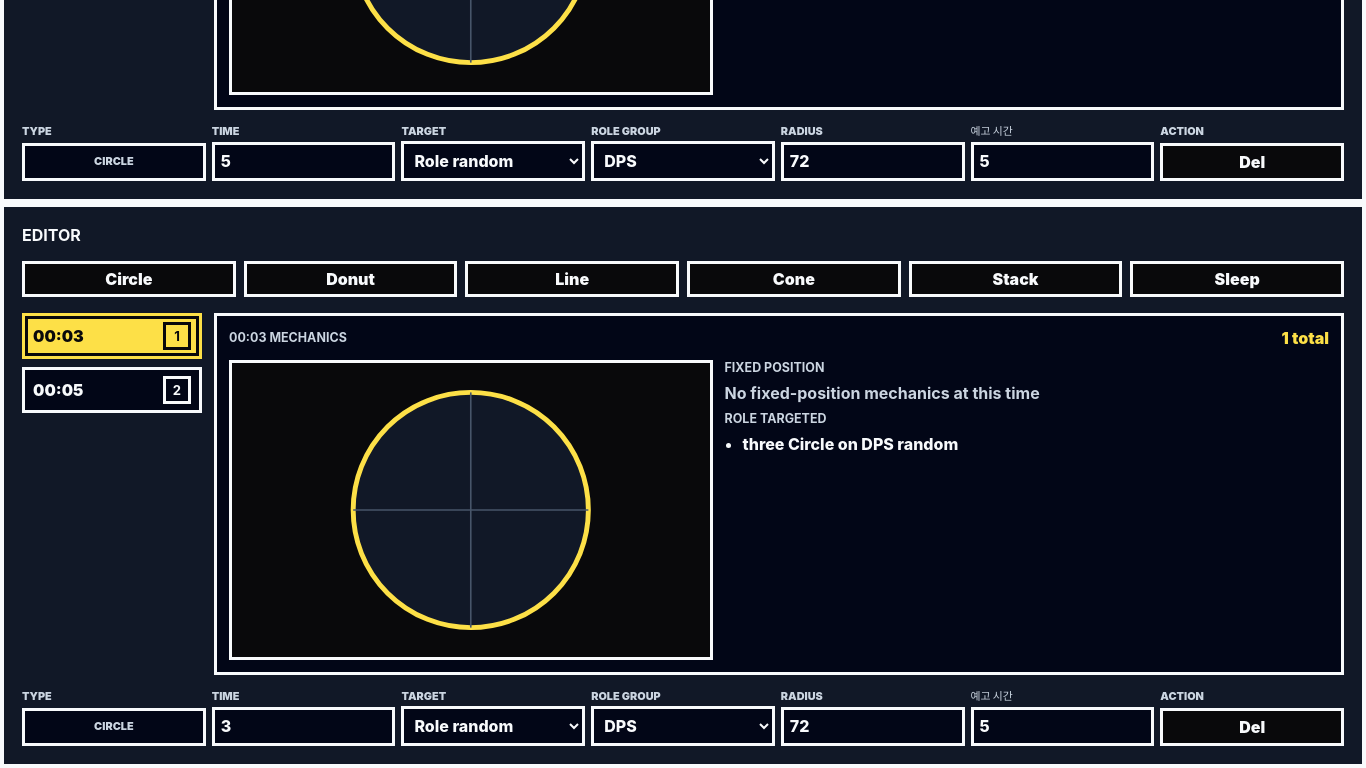
it: TimelineEditor › previews fixed-position mechanics and summarizes role-targeted mechanics for the selected time
(page scrolled)
Click the button "00:05 2". click: (112, 390)
box: [22,367,202,413]
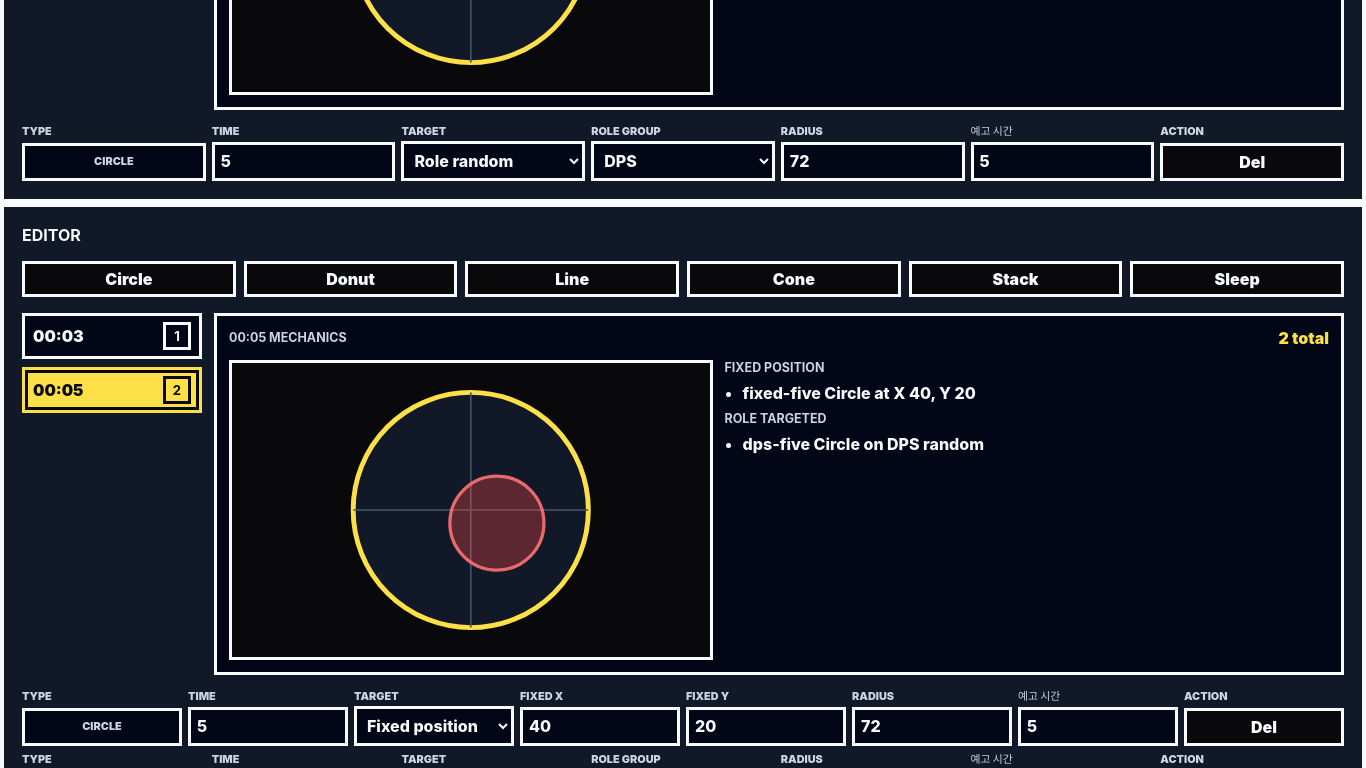
Check: the picture named "Fixed-position mechanic preview" in the row of "fixed-five Circle at X 40, Y 20" is shown, box [229,360,712,660]
Check: the text "fixed-five Circle at X 40, Y 20" is shown, box [742,383,976,403]
Check: the text "dps-five Circle on DPS random" is shown, box [742,434,984,454]
